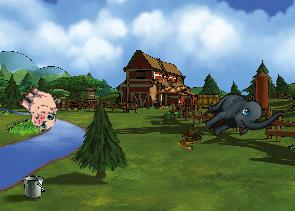eagle: (132, 62, 190, 120)
elephant: (197, 72, 286, 159)
pig: (11, 80, 67, 135)
